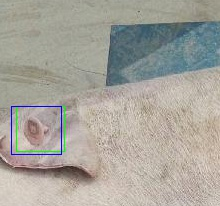text: (16, 106, 64, 151)
